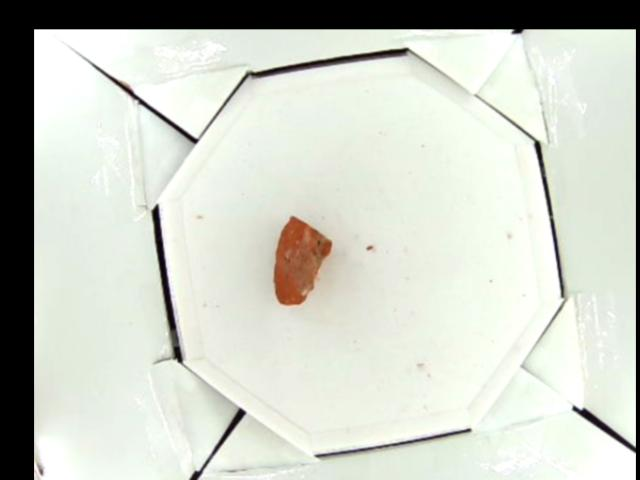Brisk: (272, 215, 332, 305)
